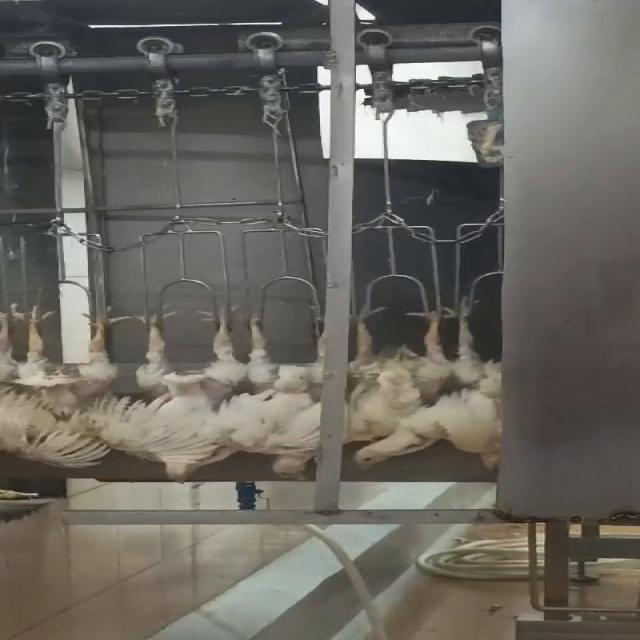chicken: (0, 299, 141, 471), (121, 298, 245, 486), (341, 292, 464, 474), (226, 298, 328, 482), (450, 286, 517, 476)
